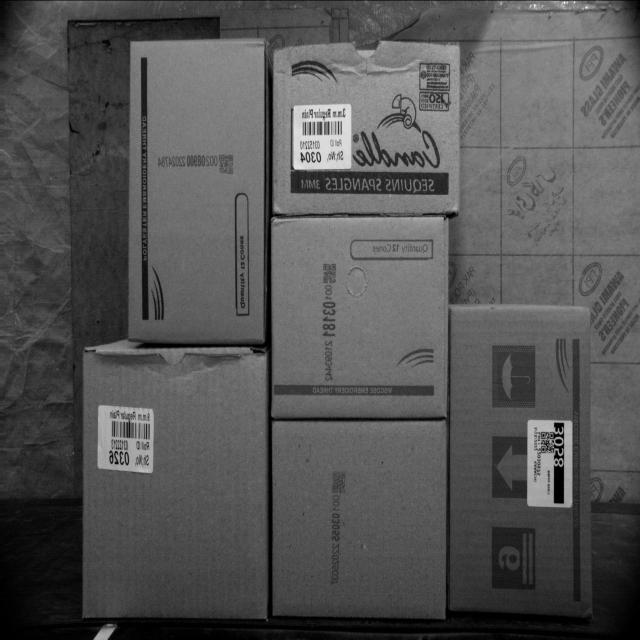cardboxes: (80, 346, 268, 621), (449, 304, 591, 614), (127, 43, 266, 344), (268, 216, 446, 418), (270, 418, 449, 618), (270, 42, 458, 214)
